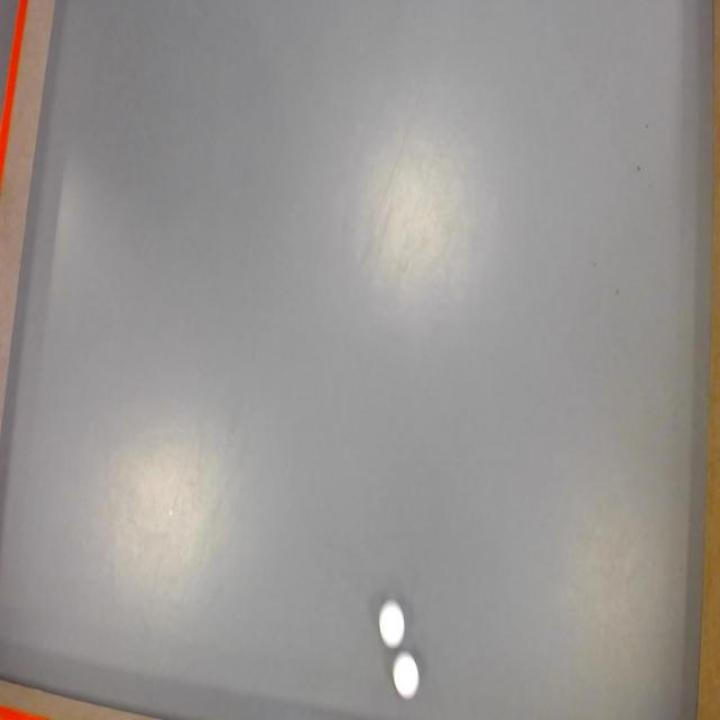white: (391, 652, 420, 699), (379, 600, 406, 648)
